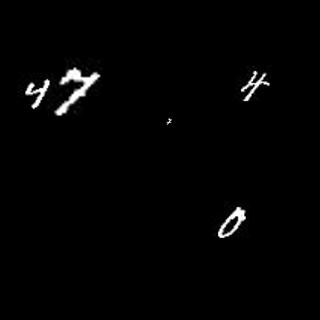four: (237, 71, 270, 107), (26, 77, 48, 109)
seven: (51, 67, 106, 121), (161, 115, 176, 127)
zero: (211, 200, 251, 240)
